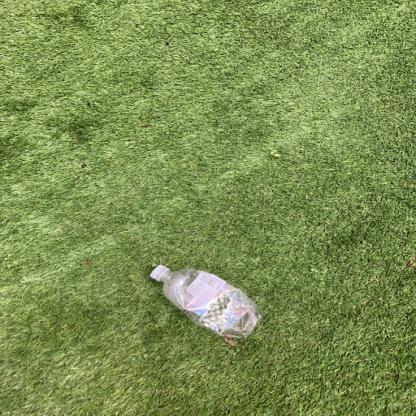trash: (148, 263, 267, 344)
